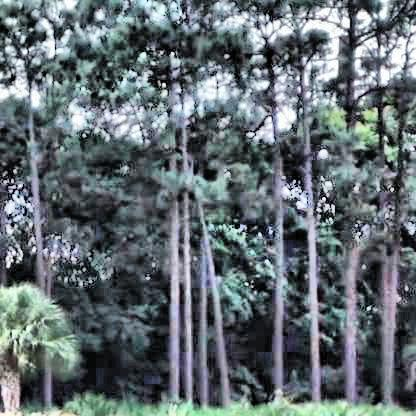golfball: (315, 148, 325, 158)
